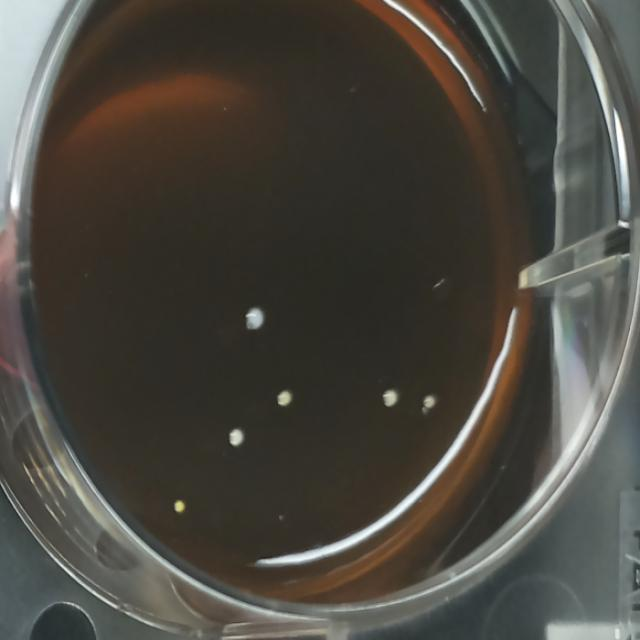Staphylococcus: (242, 302, 268, 335), (224, 422, 247, 452), (379, 384, 401, 412), (273, 386, 296, 411), (419, 390, 438, 414), (170, 497, 188, 516)
